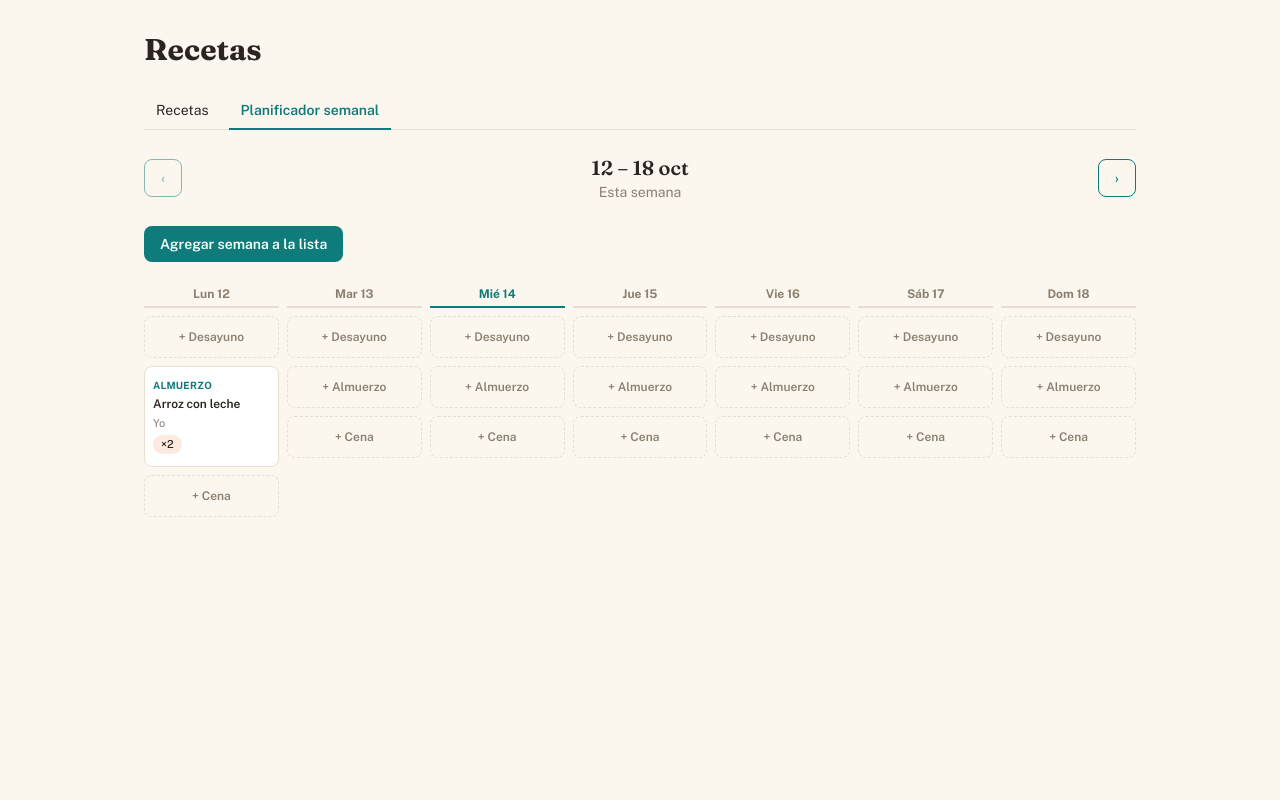
Test: MealPlanner: assigning a recipe to an empty slot › opens the dialog for that day and meal with the recipes and no recipe chosen
Click the button with aria-label "Cena del lunes 12, vacío, asignar". click: coordinates (211, 496)
box: [144, 475, 279, 517]
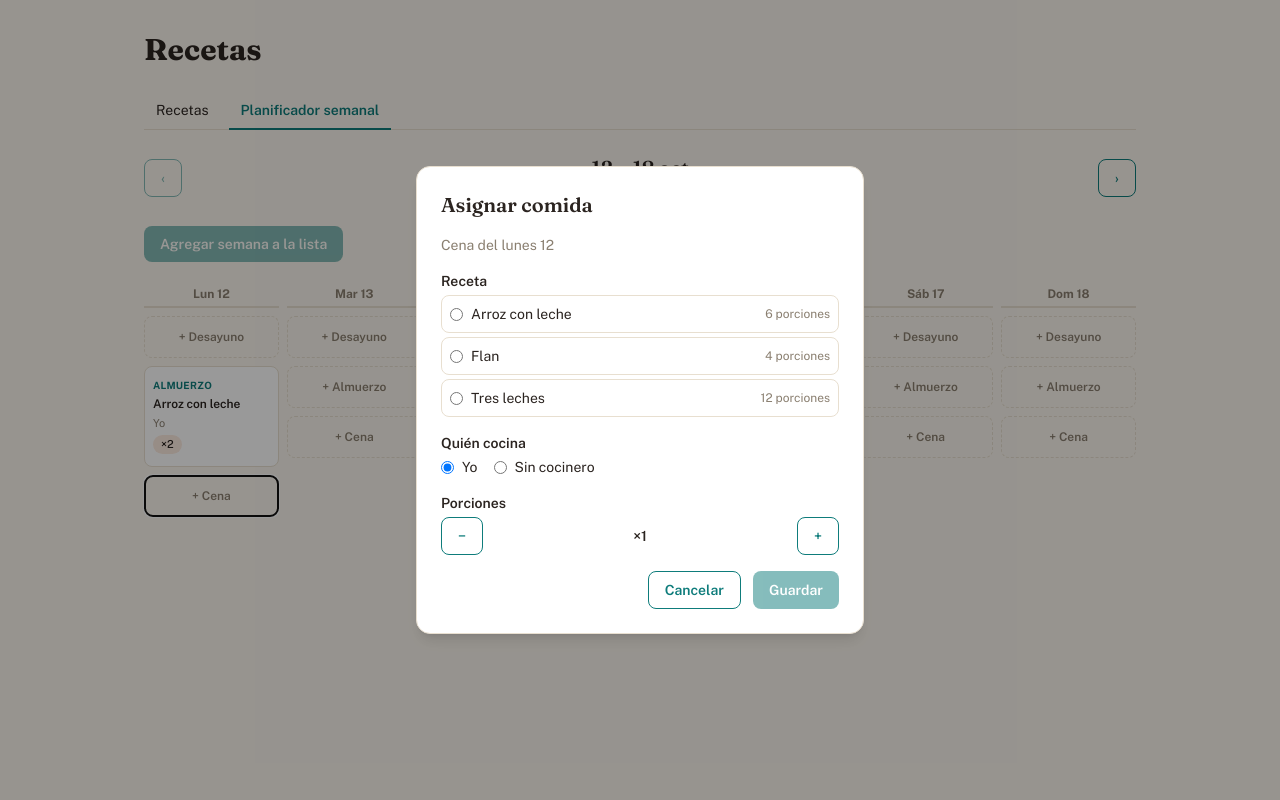
Expected: the dialog "Asignar comida" is shown, [416, 166, 864, 634]
Expected: the text "Cena del lunes 12" is shown, [441, 237, 554, 253]
Expected: the radio button labelled "Yo" is checked, [441, 460, 454, 474]
